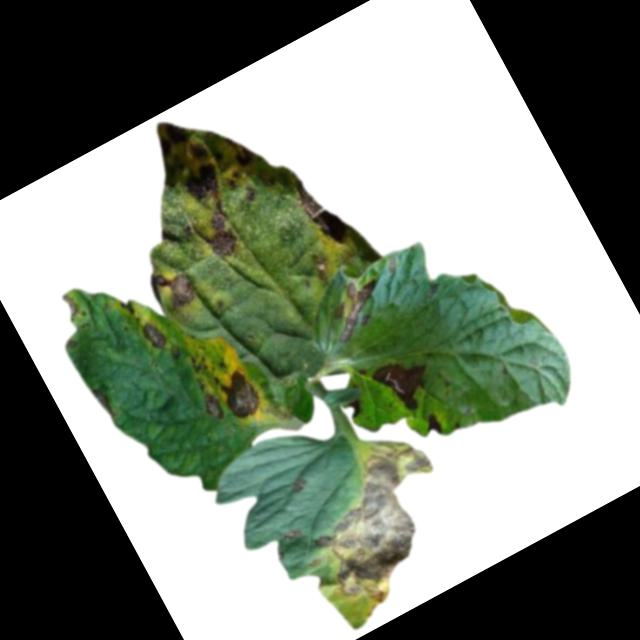Early_blight: (288, 430, 481, 621), (136, 88, 266, 219), (365, 345, 445, 425), (284, 166, 354, 255), (318, 273, 395, 346), (208, 359, 269, 429), (192, 204, 247, 268), (147, 260, 204, 320), (135, 317, 171, 357), (304, 248, 338, 288), (92, 384, 121, 422), (197, 391, 227, 427), (56, 291, 83, 325), (421, 411, 448, 441), (286, 472, 310, 494), (343, 399, 365, 423), (281, 524, 304, 545), (117, 298, 138, 320)
